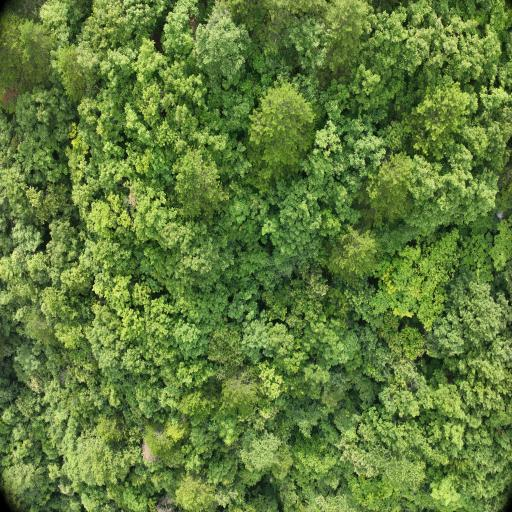dead-tree: (143, 448, 151, 460)
